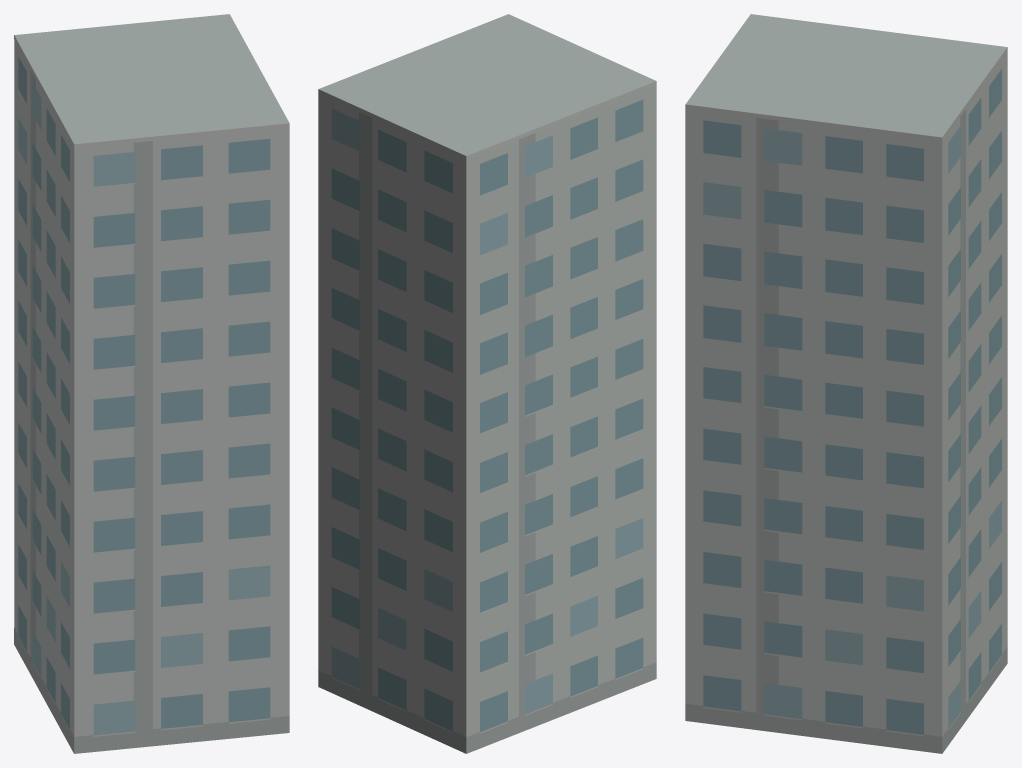
The model's file is residential-f2fb9936-1b50-4283-b6f3-940a1985b27f.glb.
3 views of the same model, side by side, from view 1: azimuth 30°, elevation 25°; view 2: azimuth 150°, elevation 25°; view 3: azimuth 270°, elevation 25° (orthographic). The views are drawn at different scales.
Visible parts, largest first — view 1: residential-f2fb9936-1b50-4283-b6f3-940a1985b27f.tmp; view 2: residential-f2fb9936-1b50-4283-b6f3-940a1985b27f.tmp; view 3: residential-f2fb9936-1b50-4283-b6f3-940a1985b27f.tmp.
Boxes of the visible parts, x1=… form: residential-f2fb9936-1b50-4283-b6f3-940a1985b27f.tmp: x1=14, y1=14, x2=289, y2=753; residential-f2fb9936-1b50-4283-b6f3-940a1985b27f.tmp: x1=318, y1=14, x2=656, y2=753; residential-f2fb9936-1b50-4283-b6f3-940a1985b27f.tmp: x1=685, y1=14, x2=1007, y2=753.
Size of the model in its own units: 15.04 by 35 by 16.59.
